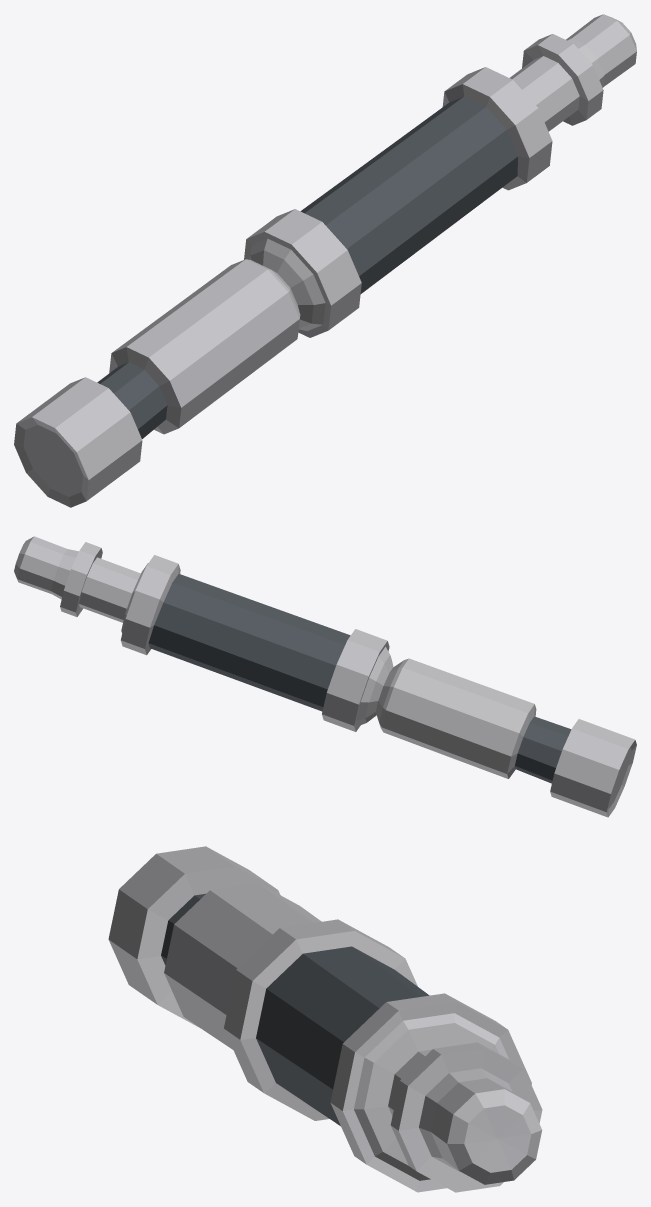
Rendered from Fighter_03_Pipes_01.fbx.
The picture shows the model from 3 angles, top to bottom: view 1: azimuth 30°, elevation 25°; view 2: azimuth 150°, elevation 25°; view 3: azimuth 270°, elevation 25°; orthographic projection. The views are drawn at different scales.
Visible parts, largest first — view 1: Fighter_03_Pipes_01; view 2: Fighter_03_Pipes_01; view 3: Fighter_03_Pipes_01.
Boxes of the visible parts, x1,y1,x2,y2 form: Fighter_03_Pipes_01: (14, 14, 636, 507); Fighter_03_Pipes_01: (14, 536, 636, 817); Fighter_03_Pipes_01: (108, 846, 542, 1192).
Size of the model in its own units: 244 by 88.09 by 84.72.
Materials: 1 (1 with a texture image).
